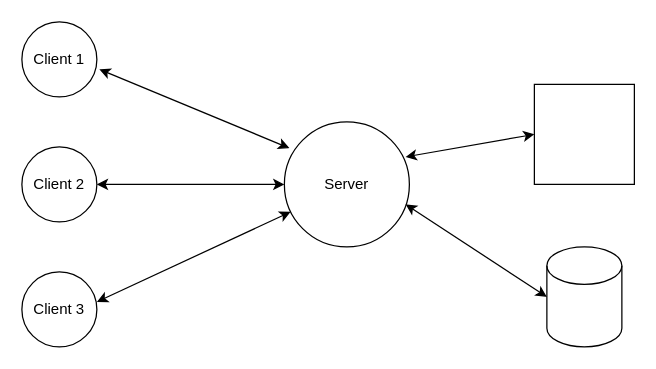
Some shapes in this 656 by 369 pixel diagram are drawn without their labels. The shapes that lost their labels are listed below. From the top down, each one's centre as x and y in pixels, then its label:
At [583,133]: "Service Now API".
At [584,296]: "Service Now DB".
